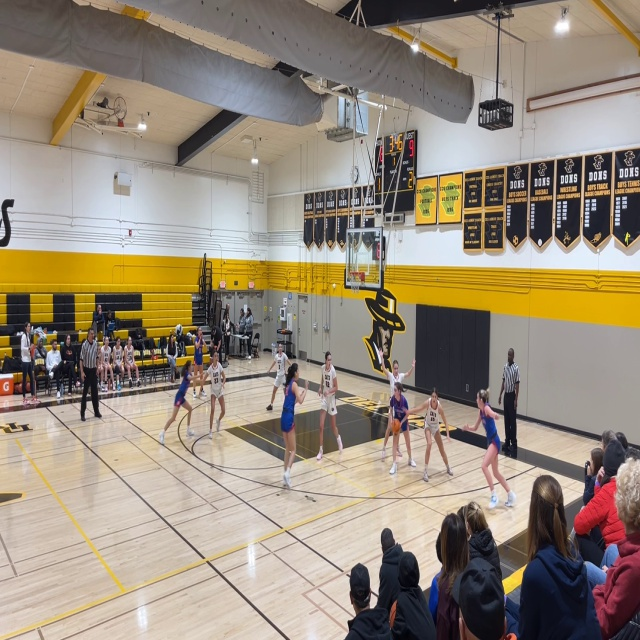Basketball: (391, 420, 401, 434)
